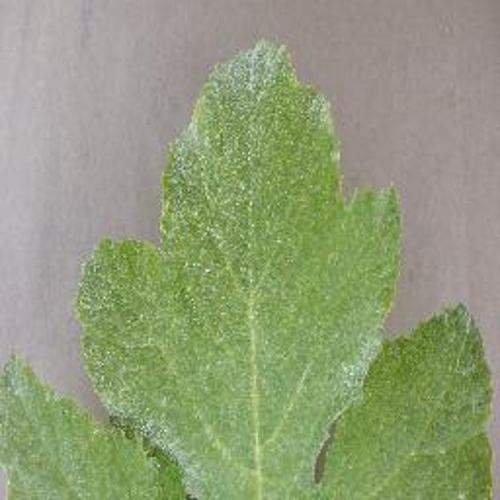Squash: (0, 41, 493, 500)
